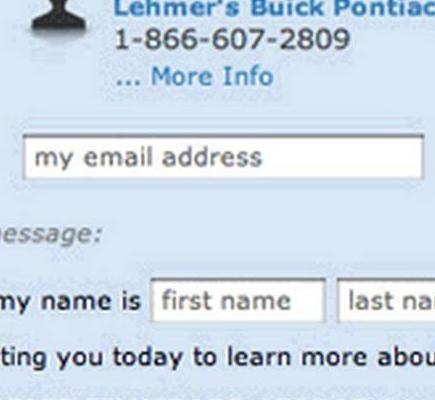field: (18, 131, 425, 184), (146, 276, 327, 326)
